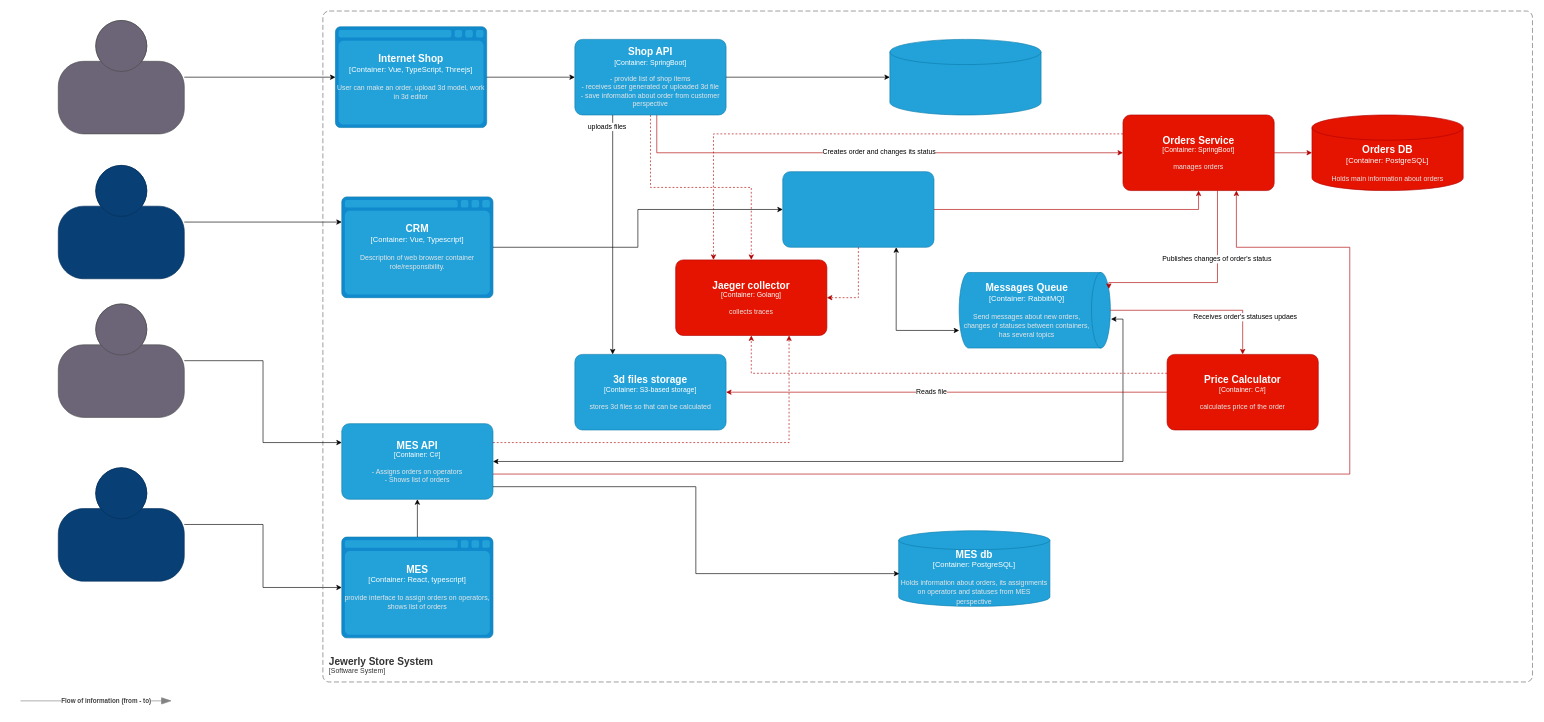
Some shapes in this 1544 by 722 pixel diagram are drawn without their labels. Each missing label, with the centre of its shape:
"API user [Person] Description of external person." belongs at (121,360).
"CRM API [Container: SpringBoot] Description of container role/responsibility." belongs at (858,209).
"Customer [Person] Description of external person." belongs at (121,77).
"Operator [Person] Takes order in work, manufactures jewerly" belongs at (121,524).
"Seller [Person] Operates with order, confirms manufacturing for the user" belongs at (121,222).
"Shop DB [Container: PostgreSQL] Holds main information about work with customers" belongs at (965,77).
